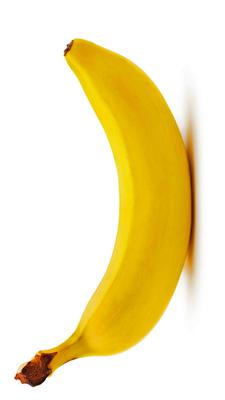banana: (0, 0, 225, 400)
